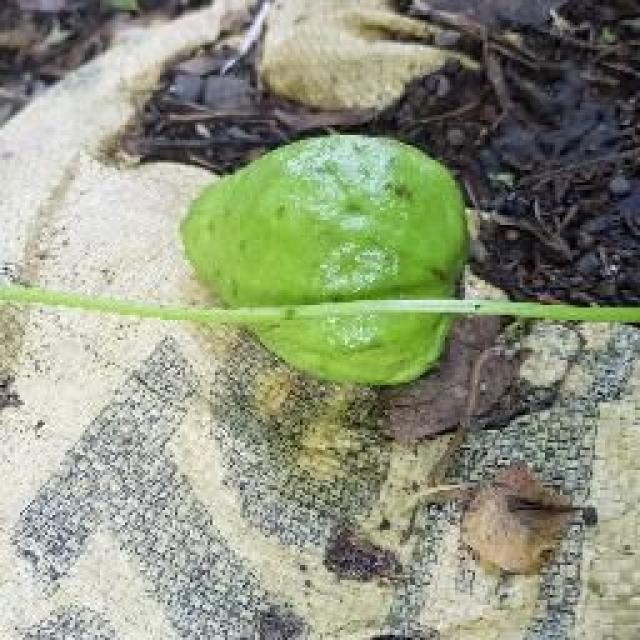Good_Guava: (178, 132, 470, 388)
